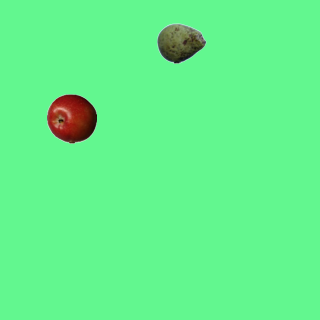Apple Braeburn: (46, 93, 96, 143)
Pear Stone: (156, 18, 206, 68)
